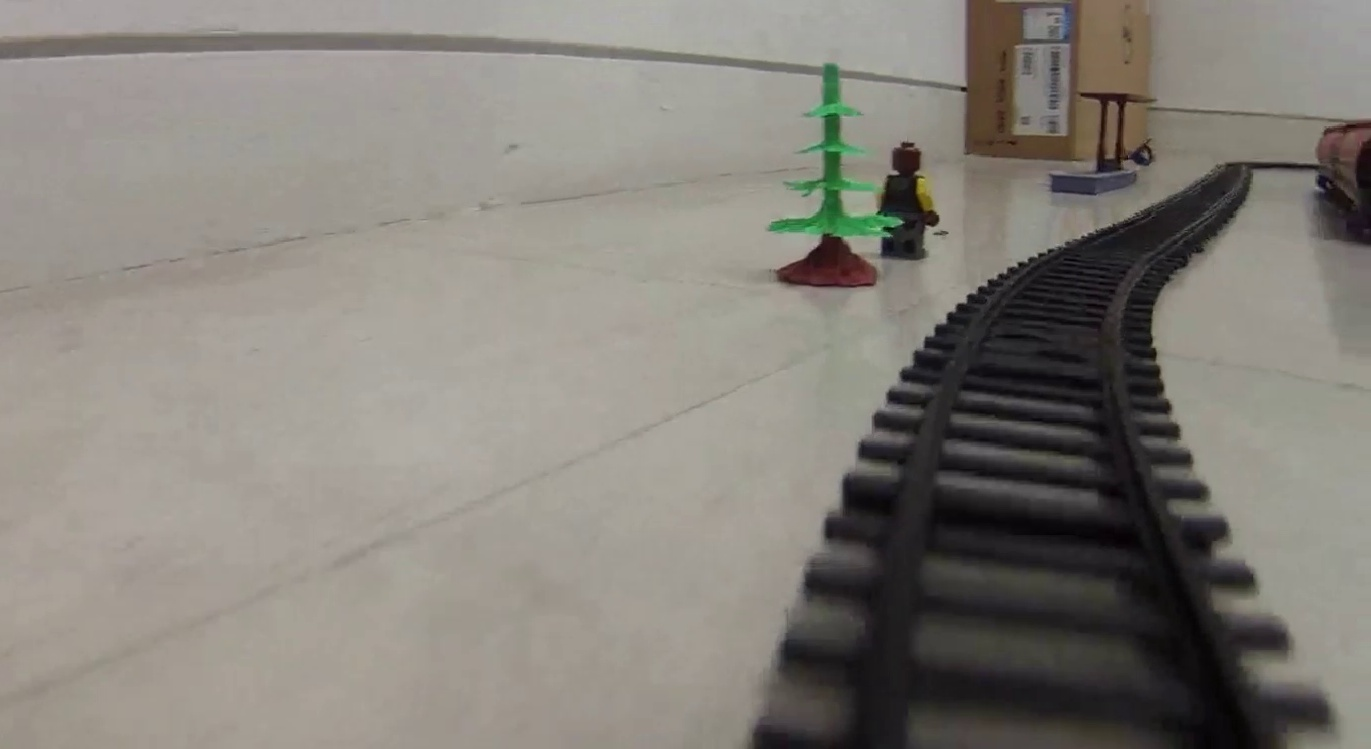people: (880, 142, 939, 259)
tree: (767, 61, 882, 286)
